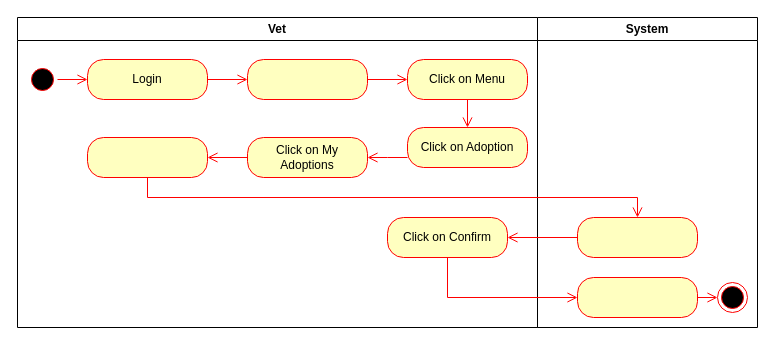
This 775x345 diagram has some shape labels left out. Each missing label, with the centre of its shape:
Click on Remove Pet Icon: pixel 147 157
Delete Pet from List: pixel 637 297
Display Confirmation Question: pixel 637 237
View Dashboard: pixel 307 79
